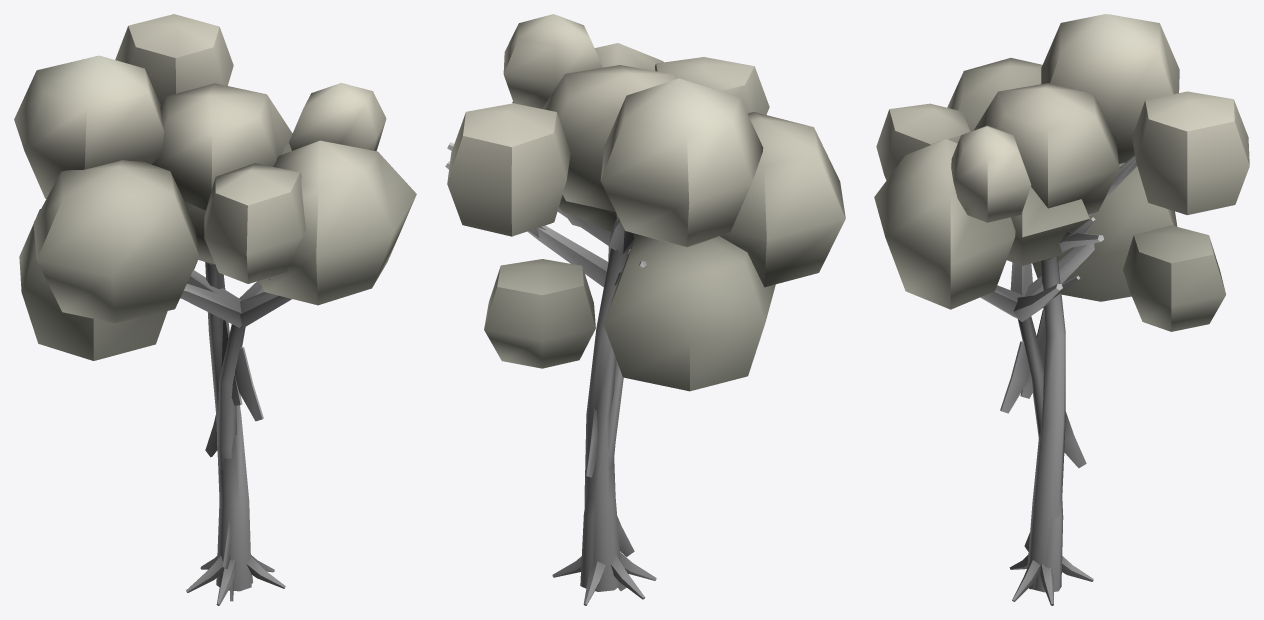
The model's file is polylepis_b.glb.
The picture shows the model from 3 angles, left to right: view 1: azimuth 30°, elevation 25°; view 2: azimuth 150°, elevation 25°; view 3: azimuth 270°, elevation 25°; orthographic projection. The views are drawn at different scales.
Parts seen in each view (by area): view 1: Polylepis_B; view 2: Polylepis_B; view 3: Polylepis_B.
Part boxes in pixels (x1,y1,x2,y2): Polylepis_B: (14, 14, 416, 605); Polylepis_B: (445, 14, 845, 605); Polylepis_B: (874, 14, 1249, 605).
Bounding box in the file's own units: 4.71 × 6.8 × 4.37.
